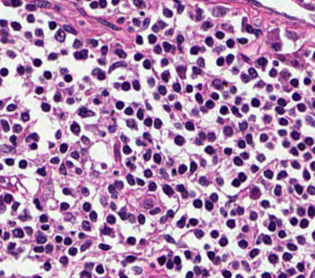nucleus: (98, 19, 119, 29), (109, 62, 125, 72), (78, 107, 93, 116), (213, 7, 226, 16), (63, 25, 76, 34), (55, 30, 65, 41), (250, 187, 260, 198), (176, 66, 185, 78), (163, 185, 173, 195), (26, 133, 38, 141), (231, 106, 240, 116), (174, 136, 184, 145), (115, 49, 126, 57), (71, 122, 79, 133), (126, 174, 134, 185), (163, 8, 172, 17), (127, 119, 136, 128), (223, 126, 232, 135), (199, 176, 208, 185), (161, 71, 169, 81), (202, 21, 211, 29), (148, 34, 156, 43), (163, 42, 171, 51), (79, 49, 87, 58), (257, 57, 266, 65), (158, 85, 166, 94), (41, 103, 50, 111), (277, 171, 286, 179), (286, 32, 296, 39), (97, 70, 104, 80), (195, 93, 202, 103), (59, 164, 66, 174), (274, 185, 281, 195), (190, 161, 196, 172), (73, 39, 81, 47), (190, 46, 198, 54), (248, 68, 256, 76), (241, 74, 249, 82), (213, 80, 221, 88), (121, 82, 129, 90), (251, 98, 259, 106), (297, 103, 305, 111), (220, 106, 228, 114), (263, 115, 271, 123), (185, 122, 193, 130), (239, 122, 247, 130), (291, 131, 299, 139), (143, 133, 151, 141), (123, 145, 131, 153), (234, 157, 242, 165), (126, 161, 134, 169), (178, 165, 186, 173), (37, 167, 45, 175), (264, 170, 272, 178), (115, 181, 123, 189), (88, 39, 97, 46), (226, 54, 233, 63), (197, 57, 204, 66), (173, 83, 180, 92), (275, 106, 284, 113), (154, 119, 161, 128), (208, 132, 215, 141), (60, 143, 67, 152), (295, 184, 302, 193), (39, 1, 49, 7), (133, 80, 139, 90), (144, 150, 150, 160), (303, 169, 309, 179), (245, 25, 253, 32), (205, 37, 212, 45), (226, 39, 233, 47), (272, 43, 280, 50), (154, 45, 161, 53), (134, 53, 142, 60), (216, 57, 223, 65), (161, 58, 168, 66), (33, 59, 41, 66), (143, 60, 150, 68), (192, 67, 200, 74), (281, 71, 289, 78), (290, 79, 298, 86), (53, 93, 60, 101), (292, 93, 300, 100), (278, 98, 285, 106), (206, 100, 213, 108), (116, 101, 123, 109), (279, 118, 287, 125), (120, 135, 128, 142), (81, 136, 89, 143), (305, 137, 313, 144), (115, 145, 119, 159), (205, 146, 213, 153), (144, 169, 151, 177), (238, 173, 245, 181), (216, 177, 223, 185), (232, 179, 240, 186), (149, 182, 156, 190), (176, 184, 184, 191), (108, 185, 115, 193), (307, 186, 314, 194), (210, 193, 217, 201), (196, 9, 201, 20), (143, 18, 149, 27), (101, 46, 107, 55), (246, 134, 252, 143), (154, 154, 160, 163), (50, 157, 59, 163), (134, 1, 144, 6), (137, 109, 142, 119), (99, 0, 106, 7), (90, 1, 97, 8), (216, 31, 223, 38), (242, 55, 249, 62), (269, 69, 276, 76), (44, 71, 51, 78), (64, 75, 71, 82), (125, 107, 132, 114), (260, 134, 267, 141), (238, 140, 245, 147), (290, 148, 297, 155), (71, 151, 78, 158), (257, 154, 264, 161), (292, 161, 299, 168), (251, 165, 258, 172), (137, 178, 144, 185), (177, 5, 183, 13), (133, 18, 139, 26), (177, 35, 183, 43), (136, 36, 142, 44), (48, 53, 56, 59), (255, 81, 263, 87), (242, 104, 248, 112), (145, 118, 151, 126), (82, 187, 88, 195), (238, 38, 247, 43), (136, 140, 145, 145), (49, 22, 55, 29), (152, 25, 158, 32), (35, 29, 42, 35), (165, 29, 172, 35), (148, 78, 154, 85), (186, 85, 192, 92), (230, 86, 236, 93), (35, 87, 42, 93), (211, 93, 218, 99), (175, 102, 181, 109), (199, 132, 205, 139), (283, 140, 289, 147), (224, 148, 231, 154), (241, 152, 248, 158), (63, 188, 70, 194), (55, 130, 60, 138), (278, 130, 286, 135), (159, 21, 165, 27), (74, 52, 80, 58), (98, 58, 104, 64), (304, 78, 310, 84), (266, 85, 272, 91), (67, 98, 73, 104), (164, 105, 170, 111), (217, 117, 223, 123), (109, 126, 115, 132), (30, 143, 36, 149), (298, 143, 304, 149), (304, 153, 310, 159), (310, 161, 314, 170), (117, 17, 124, 22), (35, 40, 42, 45), (235, 97, 240, 104), (200, 159, 205, 166), (182, 190, 187, 197), (102, 90, 108, 95), (154, 93, 159, 99), (94, 98, 99, 104), (146, 103, 151, 109), (175, 123, 181, 128), (66, 161, 72, 166), (254, 30, 259, 35), (273, 60, 278, 65), (232, 68, 237, 73), (201, 107, 206, 112), (76, 168, 81, 173), (112, 0, 118, 4), (61, 50, 66, 54), (168, 95, 173, 99), (270, 95, 274, 100), (192, 109, 196, 114), (250, 115, 254, 120), (196, 140, 201, 144), (49, 143, 54, 147), (213, 156, 216, 162), (128, 27, 132, 31), (197, 84, 201, 88), (102, 164, 106, 168), (190, 191, 194, 195), (112, 193, 116, 197), (172, 169, 175, 174), (279, 56, 283, 59), (101, 132, 104, 136), (282, 161, 285, 165)
